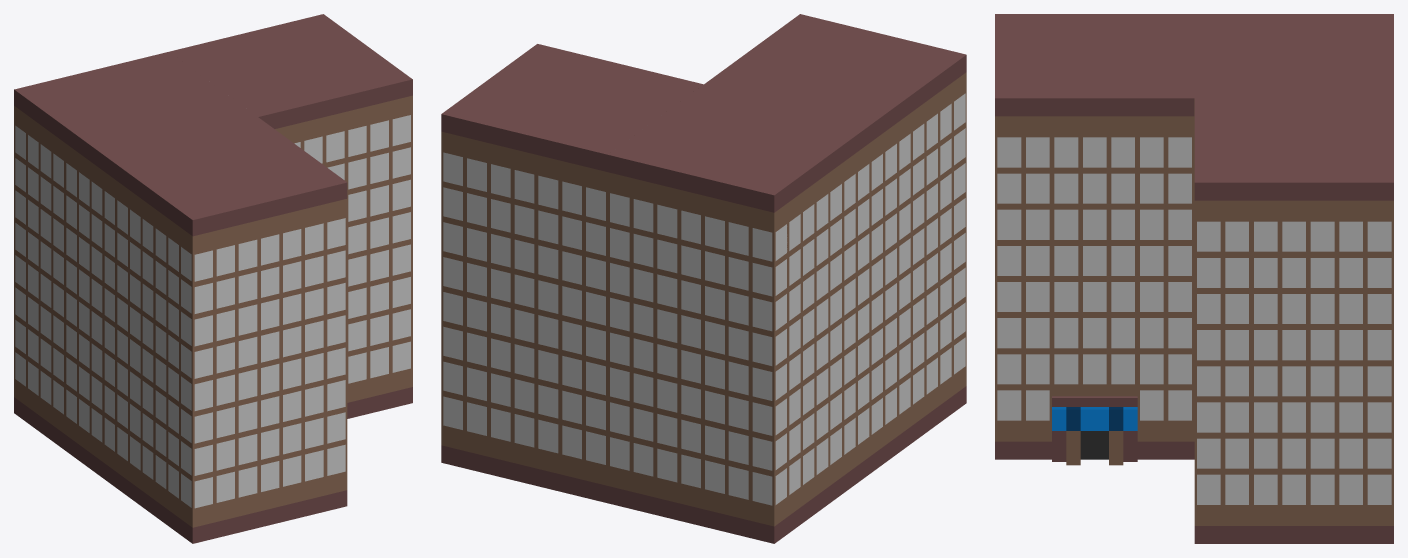
Rendered from Skyscraper Building 2 colored.fbx.
The picture shows the model from 3 angles, left to right: view 1: azimuth 30°, elevation 25°; view 2: azimuth 150°, elevation 25°; view 3: azimuth 270°, elevation 25°; orthographic projection. The views are drawn at different scales.
Parts seen in each view (by area): view 1: pCube4; view 2: pCube4; view 3: pCube4.
Part boxes in pixels (left/top/right/bottom): pCube4: left=14, top=14, right=412, bottom=543; pCube4: left=441, top=14, right=966, bottom=543; pCube4: left=995, top=14, right=1393, bottom=543.
Size of the model in its own units: 50 by 50 by 50.
